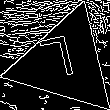L_S: (43, 34, 86, 91)
